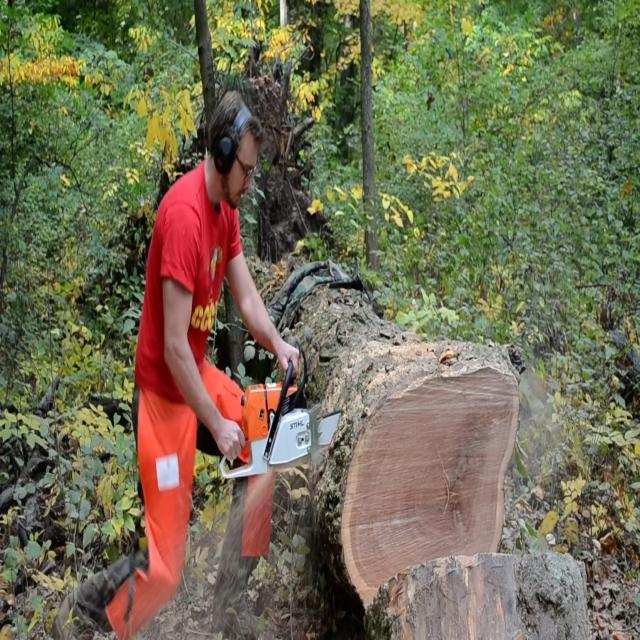Chainsaw: (196, 353, 366, 483)
